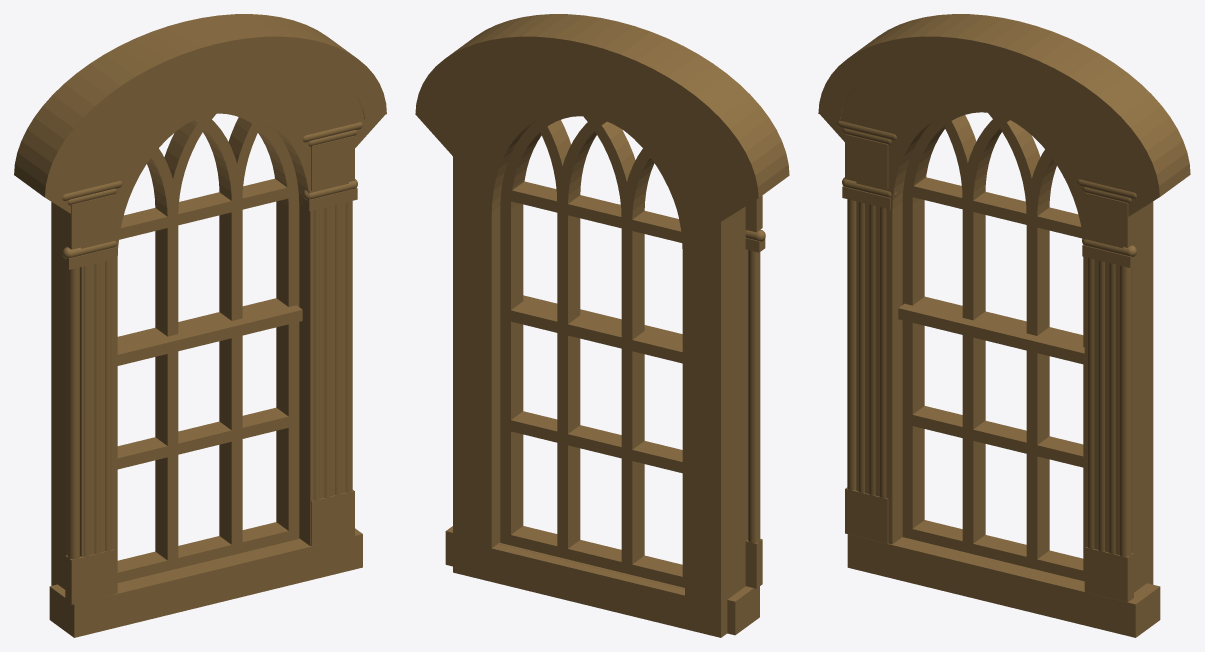
File: windows.glb
3 renders of one model, left to right at view 1: azimuth 30°, elevation 25°; view 2: azimuth 150°, elevation 25°; view 3: azimuth 330°, elevation 25°, orthographic.
Visible parts, largest first — view 1: Mesh_Mesh_head_geo.001_lambert2SG.001; view 2: Mesh_Mesh_head_geo.001_lambert2SG.001; view 3: Mesh_Mesh_head_geo.001_lambert2SG.001.
Part boxes in pixels (x1,y1,x2,y2): Mesh_Mesh_head_geo.001_lambert2SG.001: [14, 14, 386, 637]; Mesh_Mesh_head_geo.001_lambert2SG.001: [415, 14, 789, 637]; Mesh_Mesh_head_geo.001_lambert2SG.001: [818, 14, 1190, 637].
Bounding box in the file's own units: 0.0128 × 0.02 × 0.002.
